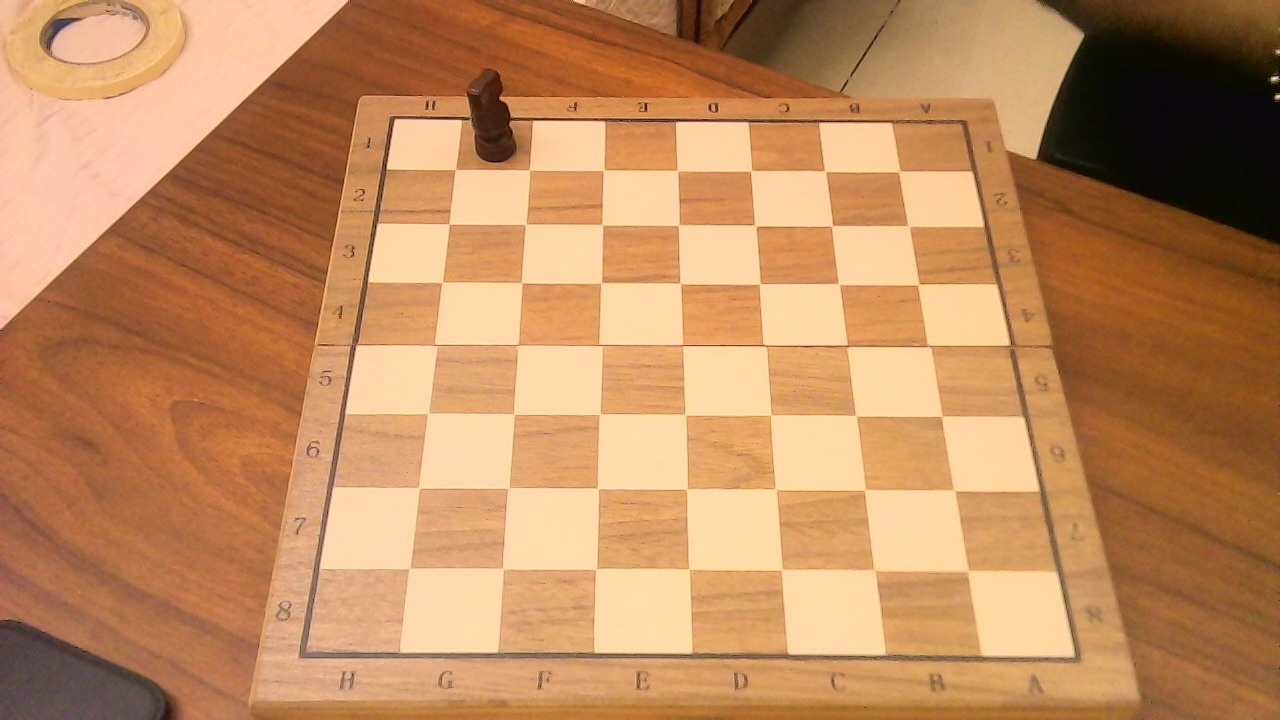n: (462, 65, 529, 171)
